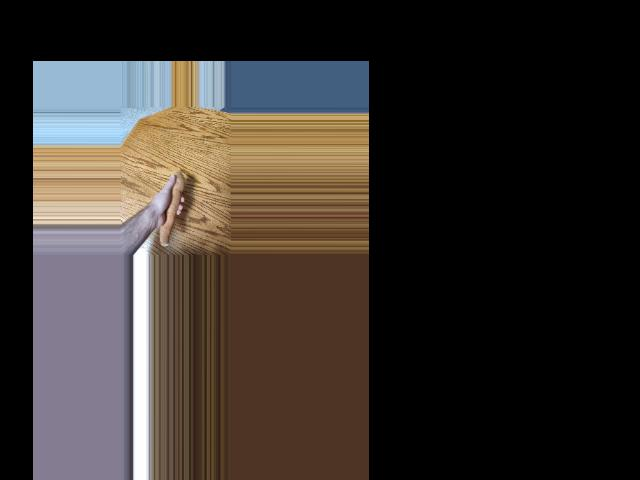sweet_potato: (158, 172, 185, 247)
